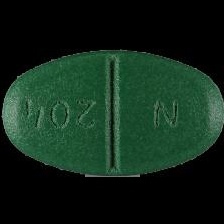33261-024: (0, 0, 224, 224)
